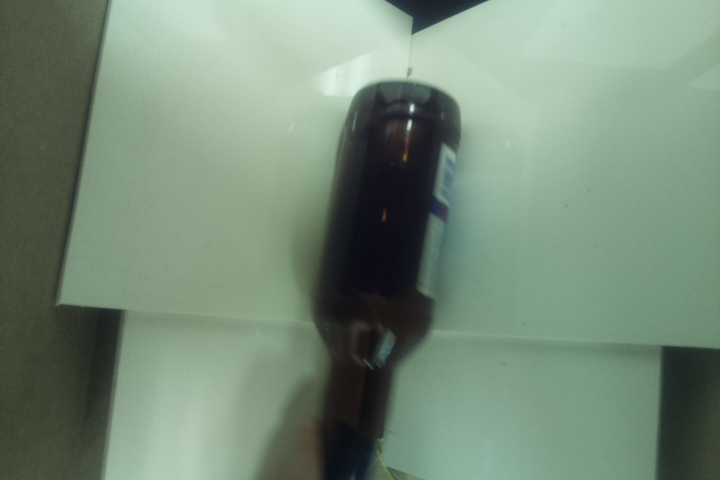makju: (308, 75, 467, 480)
